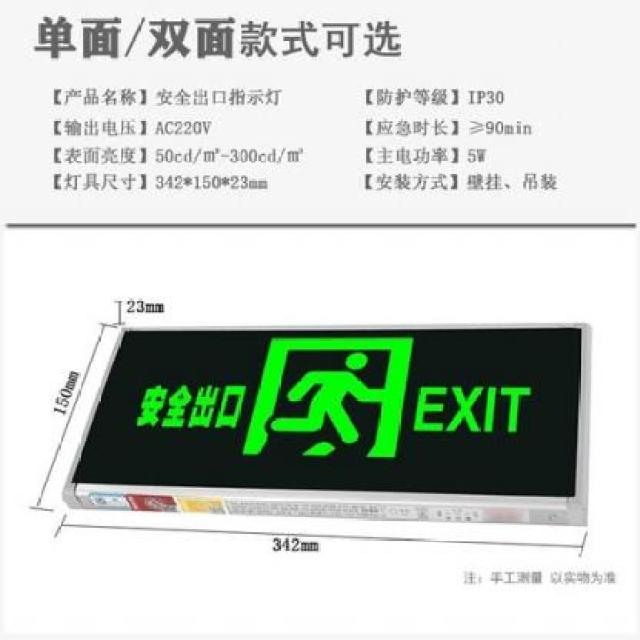exit_sign: (49, 312, 608, 545)
